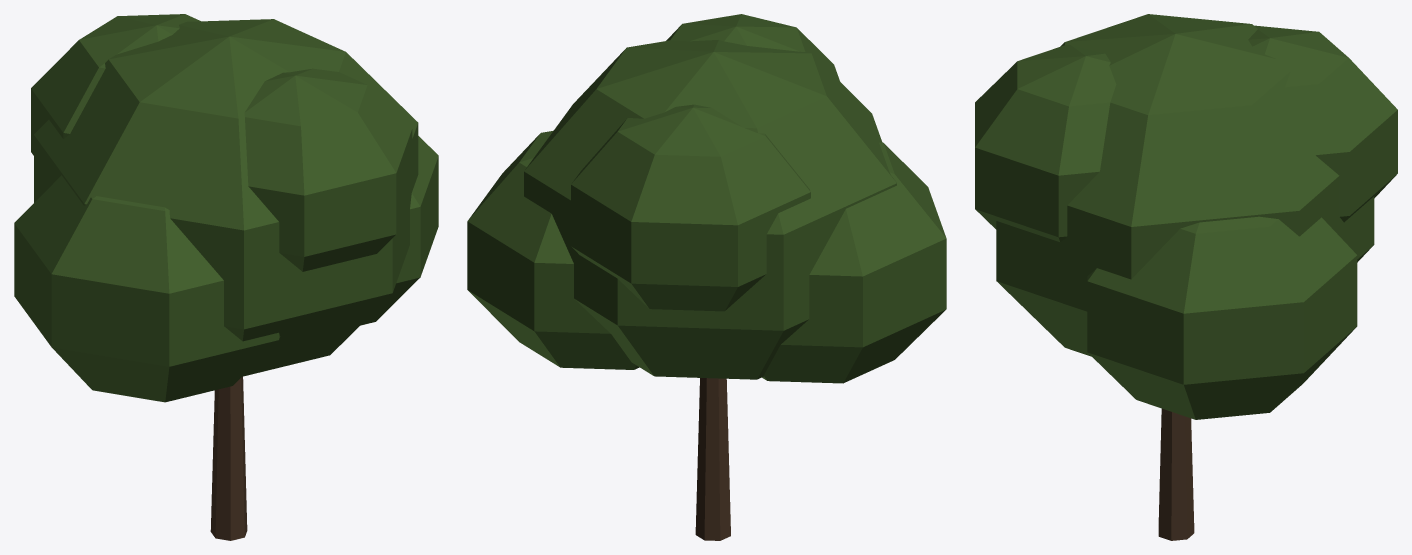
File: arvore_carvalho.glb
3 views of the same model, side by side, from view 1: azimuth 30°, elevation 25°; view 2: azimuth 150°, elevation 25°; view 3: azimuth 270°, elevation 25° (orthographic). The views are drawn at different scales.
Parts seen in each view (by area): view 1: Arvore; view 2: Arvore; view 3: Arvore.
Boxes of the visible parts, x1,y1,x2,y2 form: Arvore: [14, 14, 438, 540]; Arvore: [467, 14, 946, 540]; Arvore: [975, 14, 1397, 540].
Size of the model in its own units: 9.86 by 11.07 by 8.5.
